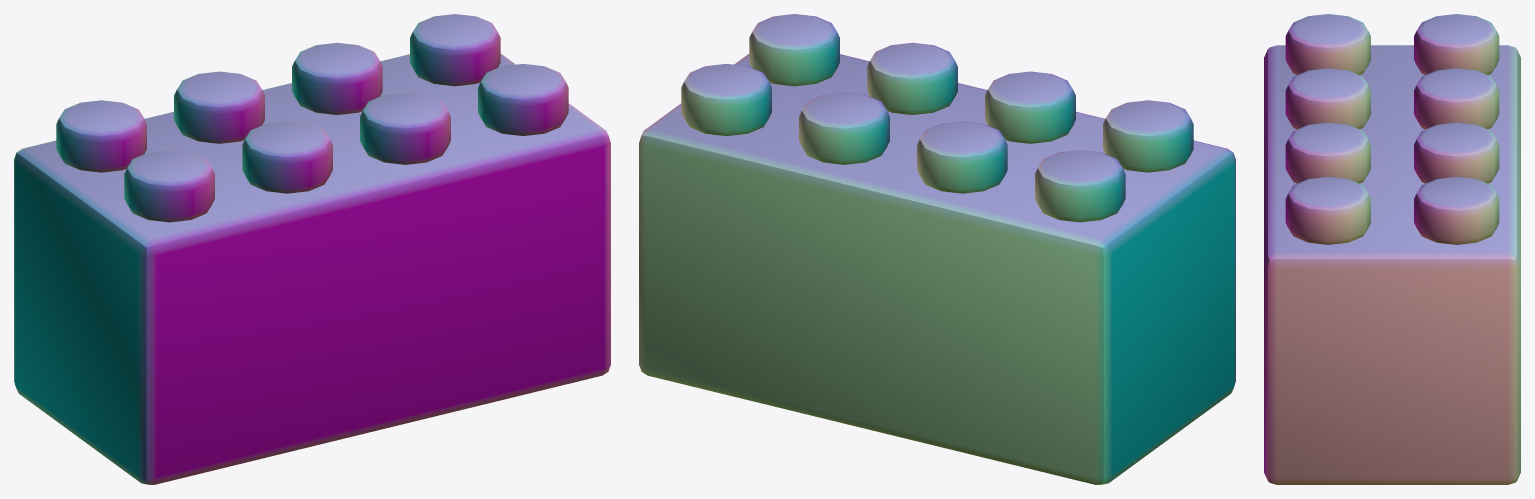
File: env_deco_block.glb
The picture shows the model from 3 angles, left to right: view 1: azimuth 30°, elevation 25°; view 2: azimuth 150°, elevation 25°; view 3: azimuth 270°, elevation 25°; orthographic projection. The views are drawn at different scales.
Parts seen in each view (by area): view 1: env_deco_block_mesh; view 2: env_deco_block_mesh; view 3: env_deco_block_mesh.
Boxes of the visible parts, box(x1,y1,x2,y2) form: env_deco_block_mesh: box(14, 14, 610, 484); env_deco_block_mesh: box(639, 14, 1235, 484); env_deco_block_mesh: box(1264, 14, 1520, 484).
Size of the model in its own units: 0.48 by 0.28 by 0.24.
